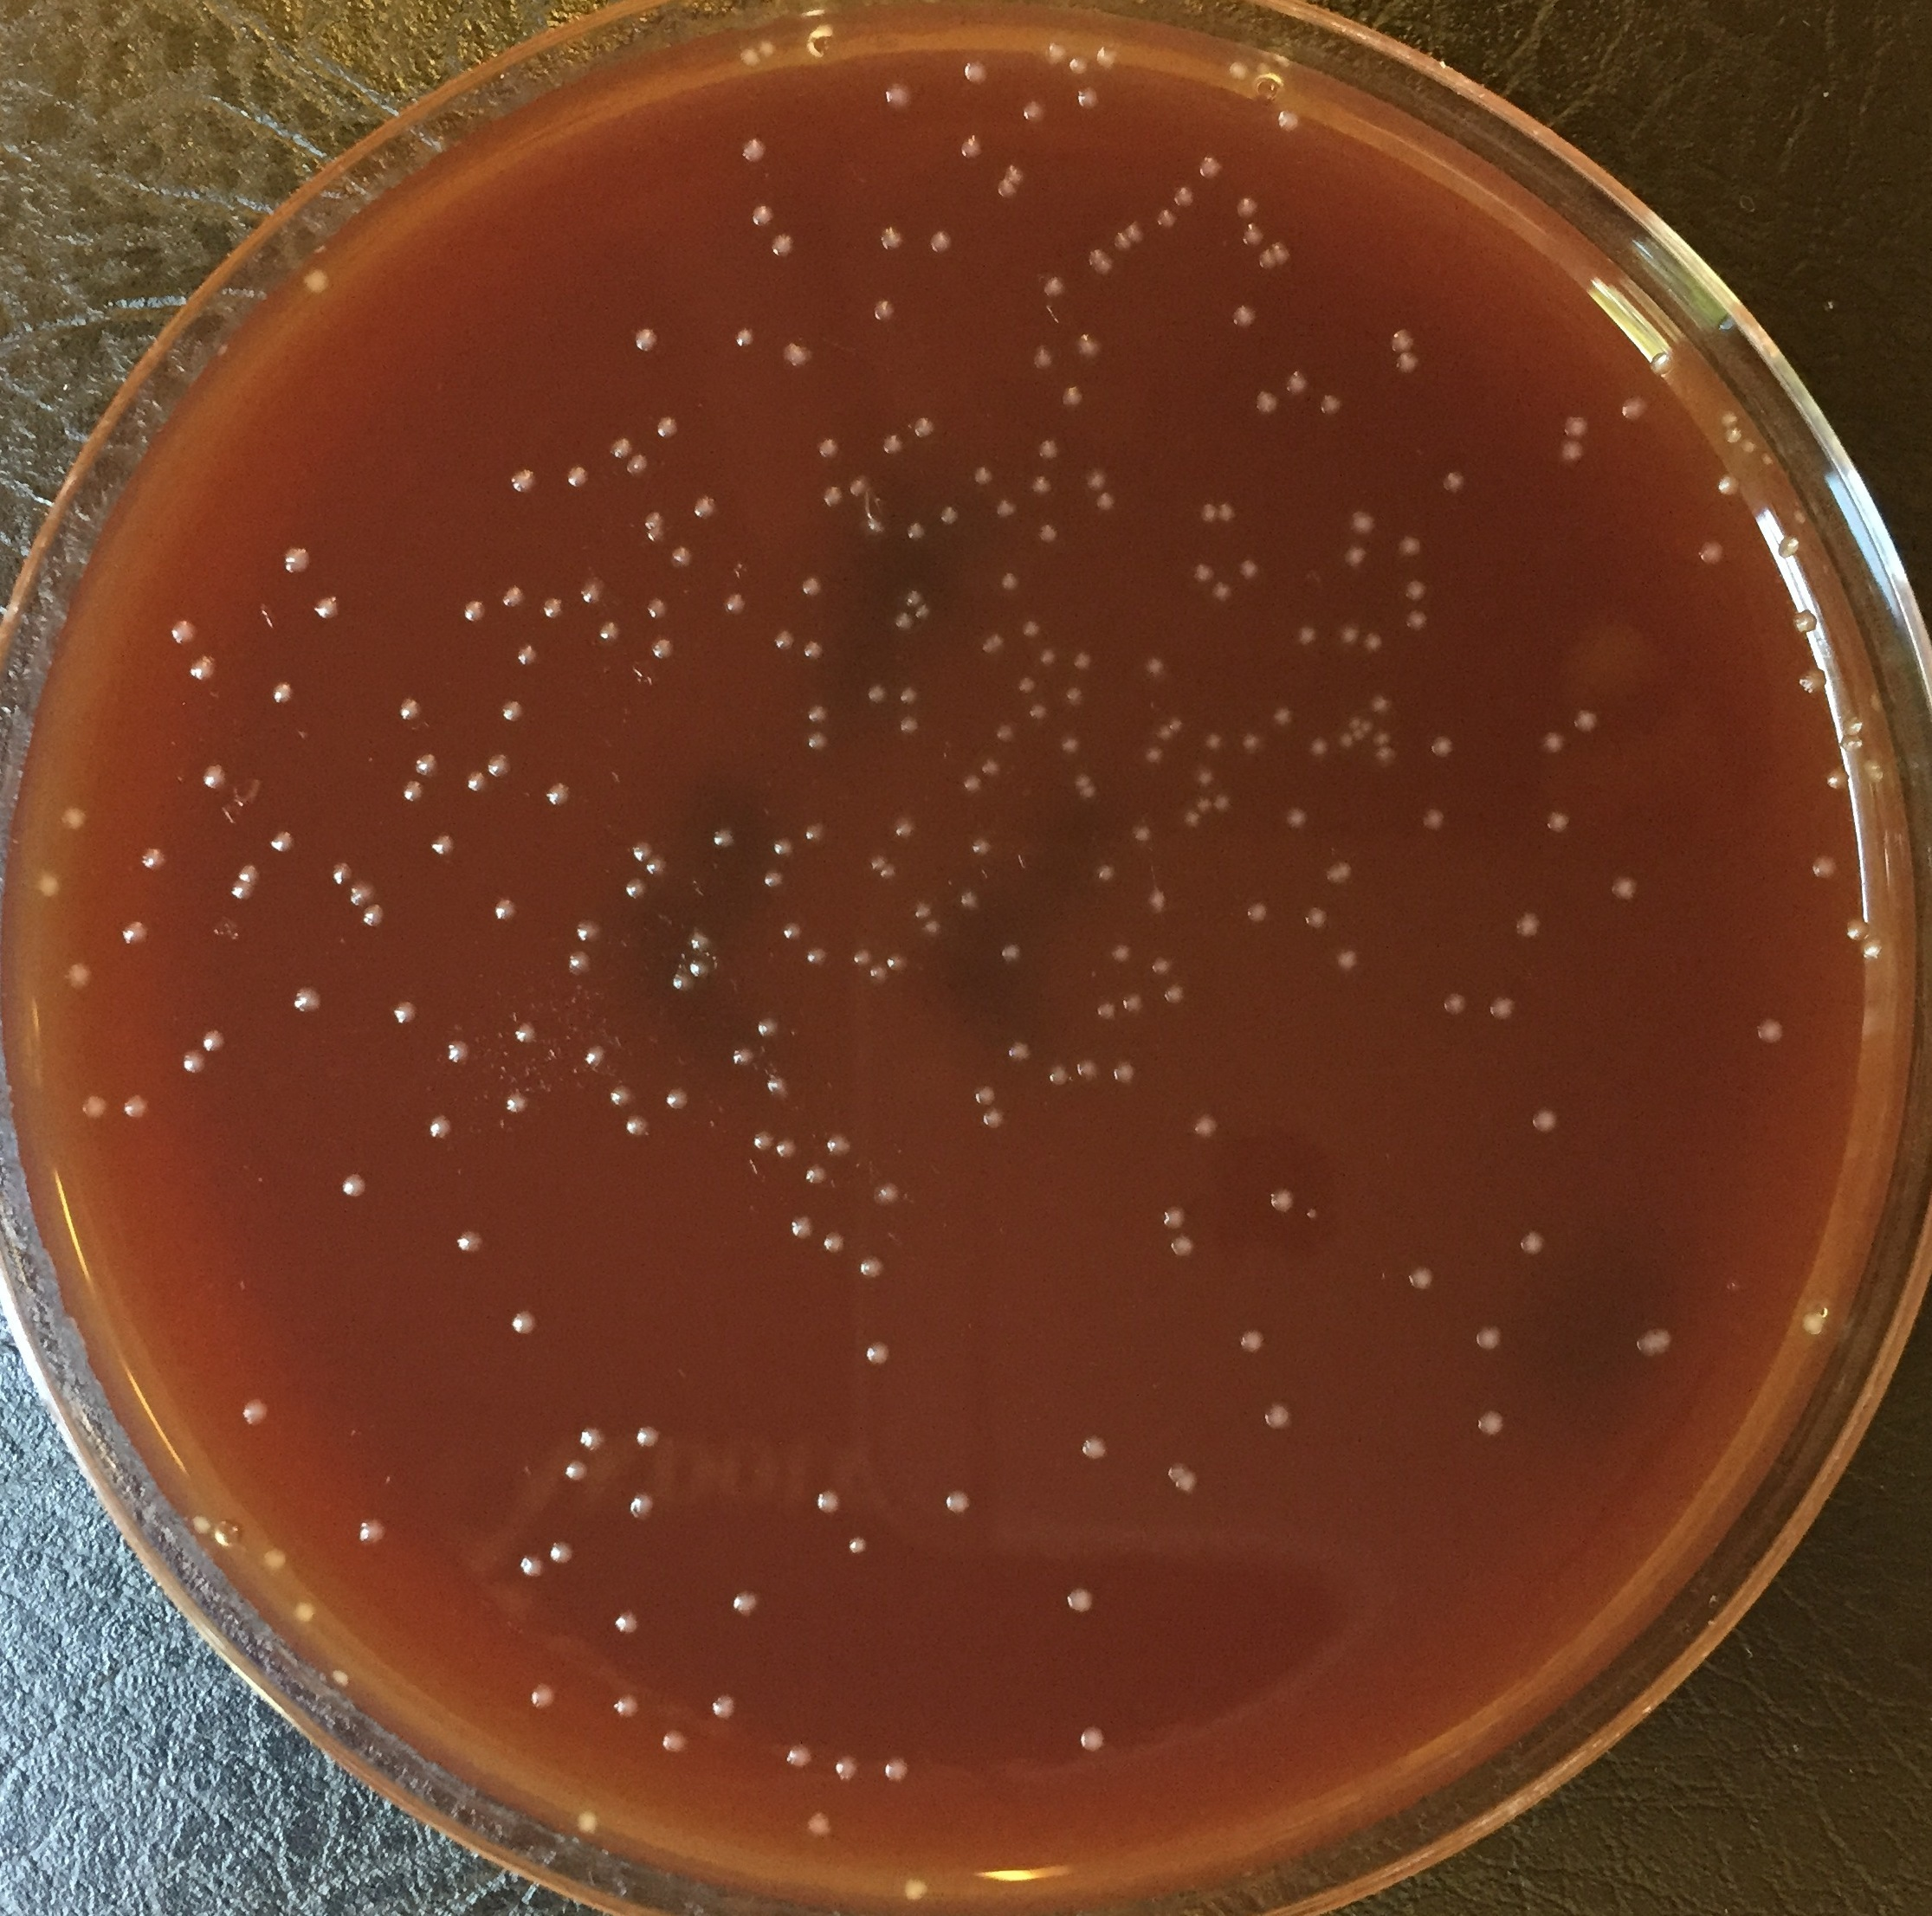sp23: (33, 867, 67, 911), (881, 79, 919, 116), (1634, 1325, 1672, 1360), (1614, 393, 1655, 425), (344, 876, 379, 911), (739, 132, 774, 167), (279, 542, 316, 576), (939, 1486, 979, 1516), (832, 1753, 867, 1786), (1470, 1321, 1506, 1355), (1790, 604, 1823, 639), (1693, 533, 1730, 565), (58, 804, 91, 837), (811, 1486, 846, 1518), (239, 1393, 270, 1428), (184, 653, 221, 683), (1755, 1014, 1786, 1047), (1609, 870, 1641, 904), (1799, 665, 1832, 697), (779, 339, 812, 370), (356, 1516, 388, 1549), (309, 593, 342, 625), (577, 572, 609, 605), (1283, 802, 1314, 835), (288, 984, 323, 1014), (1260, 1402, 1297, 1430), (612, 1690, 644, 1721), (874, 1179, 905, 1211), (1348, 505, 1379, 537), (258, 1542, 290, 1574), (514, 639, 546, 670), (730, 1586, 763, 1616), (574, 1807, 604, 1841), (879, 1755, 912, 1784), (1267, 1184, 1300, 1214), (1797, 1311, 1830, 1340), (1486, 991, 1520, 1021), (1253, 388, 1286, 418), (1190, 1109, 1220, 1142), (823, 1128, 856, 1158), (565, 949, 598, 979), (388, 995, 421, 1025), (644, 593, 677, 623), (1227, 302, 1262, 330), (805, 1809, 835, 1841), (1079, 1433, 1109, 1465), (788, 1211, 818, 1242), (1404, 1263, 1435, 1293), (61, 960, 91, 991), (337, 1170, 369, 1200), (509, 1304, 540, 1333), (198, 761, 230, 791), (628, 326, 660, 356), (1513, 912, 1546, 940), (1560, 412, 1593, 440), (1283, 368, 1311, 402), (960, 60, 993, 88), (1074, 330, 1102, 363), (574, 916, 607, 944), (293, 1595, 321, 1628), (653, 411, 681, 444), (1470, 1409, 1506, 1435), (625, 1491, 655, 1521), (709, 1691, 739, 1721), (856, 1253, 886, 1283), (1518, 1228, 1548, 1258), (1339, 540, 1369, 570), (1714, 470, 1744, 500), (816, 433, 846, 463), (512, 1019, 542, 1049), (498, 697, 528, 726), (632, 1423, 663, 1451), (784, 1739, 812, 1770), (1077, 1725, 1109, 1753), (1237, 1325, 1265, 1356), (393, 693, 425, 721), (690, 491, 721, 519), (765, 232, 798, 258), (167, 619, 200, 646), (1430, 730, 1455, 765), (526, 1683, 555, 1712), (902, 1874, 930, 1904), (1065, 1584, 1093, 1614), (1390, 325, 1418, 354), (1088, 247, 1116, 277), (1058, 381, 1086, 411), (1034, 435, 1063, 463), (663, 1083, 693, 1111), (411, 751, 440, 779), (428, 832, 458, 860), (119, 919, 149, 947), (179, 1047, 209, 1076), (190, 1512, 219, 1541), (507, 467, 537, 495), (607, 433, 635, 463), (1323, 856, 1353, 884), (1167, 1232, 1199, 1258), (623, 1111, 655, 1137), (540, 781, 572, 807), (268, 677, 295, 709), (539, 595, 570, 621), (547, 1539, 576, 1567), (1530, 1107, 1558, 1135), (1571, 707, 1599, 735), (1811, 853, 1839, 881), (490, 897, 518, 925), (712, 825, 741, 853), (425, 1111, 453, 1139), (563, 463, 591, 491), (300, 268, 328, 297), (612, 1607, 639, 1637), (865, 1339, 891, 1369), (1537, 728, 1567, 754), (1041, 40, 1070, 67), (927, 228, 956, 254), (1032, 344, 1058, 374), (958, 886, 988, 912), (755, 1014, 784, 1040), (969, 1083, 998, 1109), (605, 1083, 635, 1109), (121, 1093, 147, 1123), (669, 540, 695, 570), (1776, 532, 1800, 563), (1232, 195, 1263, 219), (81, 1093, 112, 1118), (518, 1553, 546, 1579), (662, 1727, 688, 1755), (1160, 1202, 1188, 1228), (1843, 916, 1871, 942), (1544, 807, 1572, 833), (1397, 532, 1425, 558), (1400, 577, 1428, 604), (1560, 437, 1586, 465), (1021, 98, 1049, 125), (960, 133, 986, 161), (1172, 184, 1199, 212), (1274, 109, 1302, 135), (581, 1042, 609, 1069), (763, 1072, 791, 1098), (486, 751, 512, 779), (644, 849, 670, 877), (139, 846, 167, 872), (456, 1226, 483, 1255), (595, 619, 623, 646), (1269, 704, 1297, 730), (1370, 742, 1399, 769), (1860, 933, 1885, 963), (1393, 353, 1423, 377), (670, 967, 700, 991), (1302, 904, 1332, 928), (560, 1460, 591, 1483), (1441, 991, 1467, 1018), (1442, 468, 1469, 495), (879, 225, 905, 251), (870, 298, 897, 325), (879, 432, 905, 458), (623, 877, 649, 904), (270, 826, 297, 853), (360, 900, 386, 926), (500, 584, 526, 611), (623, 451, 649, 477), (1172, 1467, 1197, 1495), (1155, 207, 1183, 232), (1041, 272, 1065, 300), (846, 472, 874, 497), (1084, 467, 1109, 495), (802, 702, 830, 726), (804, 944, 832, 969), (1072, 1056, 1100, 1081), (446, 1035, 470, 1063), (505, 1088, 530, 1116), (458, 598, 486, 623), (651, 635, 676, 663), (1244, 900, 1272, 925), (1269, 239, 1292, 268), (746, 204, 776, 226), (967, 835, 997, 858), (1367, 695, 1397, 718), (846, 1530, 870, 1556), (1823, 769, 1850, 793), (1209, 577, 1234, 604), (1402, 607, 1428, 632), (1241, 223, 1267, 247), (1318, 391, 1344, 416), (1093, 46, 1118, 72), (1074, 86, 1100, 111), (1000, 163, 1027, 188), (805, 728, 832, 753), (865, 679, 890, 705), (900, 714, 927, 739), (1132, 821, 1156, 847), (998, 940, 1025, 965), (1144, 886, 1169, 912), (1111, 1058, 1137, 1083), (993, 497, 1021, 519), (762, 867, 790, 890), (1148, 953, 1176, 976), (1160, 983, 1188, 1005), (1002, 1039, 1030, 1062), (1237, 732, 1265, 754), (1334, 947, 1362, 970), (1127, 218, 1148, 247), (821, 1230, 846, 1255), (997, 179, 1021, 204), (1097, 490, 1121, 514), (1014, 672, 1039, 697), (1093, 998, 1118, 1023), (1306, 733, 1330, 758), (1295, 623, 1321, 646), (1721, 421, 1748, 444), (911, 416, 934, 442), (1028, 474, 1051, 500), (723, 593, 749, 616), (979, 630, 1002, 656), (995, 723, 1021, 746), (1191, 765, 1214, 791), (1118, 991, 1144, 1014), (863, 962, 890, 984), (1048, 1063, 1074, 1086), (400, 779, 426, 802), (690, 926, 712, 953), (330, 858, 353, 884), (1421, 805, 1442, 833), (800, 640, 828, 661), (1090, 861, 1118, 883), (581, 1426, 604, 1451), (1191, 563, 1216, 586), (1237, 558, 1262, 581), (1362, 630, 1385, 654), (1790, 505, 1814, 528), (732, 325, 756, 347), (970, 463, 995, 486), (997, 570, 1021, 593), (893, 609, 918, 632), (1069, 649, 1093, 672), (893, 814, 916, 839), (802, 819, 826, 842), (1141, 744, 1165, 767), (1109, 940, 1134, 963), (886, 951, 911, 974), (981, 1107, 1005, 1130), (749, 1128, 772, 1153), (690, 958, 714, 981), (628, 840, 653, 863), (237, 860, 260, 884), (1067, 53, 1090, 75), (821, 484, 844, 507), (1039, 519, 1062, 542), (774, 628, 797, 651), (1016, 619, 1039, 642), (981, 756, 1004, 779), (851, 944, 874, 967), (640, 507, 663, 530), (1337, 623, 1358, 647), (1027, 700, 1051, 721), (230, 879, 254, 900), (202, 1028, 223, 1053), (739, 46, 763, 67), (1332, 730, 1356, 751), (800, 1165, 826, 1184), (1165, 1460, 1186, 1483), (1757, 449, 1779, 470), (1255, 249, 1276, 272), (1109, 230, 1130, 253), (1227, 60, 1249, 81), (902, 521, 925, 542), (937, 505, 960, 526), (902, 588, 925, 609), (1037, 646, 1060, 667), (897, 684, 919, 705), (772, 835, 795, 856), (1202, 730, 1223, 753), (1181, 809, 1202, 832), (1211, 793, 1234, 814), (1839, 716, 1864, 735), (777, 1135, 797, 1160), (1737, 435, 1758, 456), (912, 602, 934, 623), (1060, 735, 1081, 756), (962, 774, 983, 795), (758, 37, 779, 58), (1197, 500, 1216, 523), (1142, 656, 1165, 676), (1199, 156, 1218, 179), (730, 1047, 753, 1067), (467, 770, 486, 793), (1218, 502, 1237, 523), (1718, 407, 1739, 426), (800, 577, 821, 597), (1072, 770, 1093, 790), (1077, 783, 1098, 802), (781, 921, 802, 940), (1369, 725, 1388, 746), (867, 853, 890, 870), (649, 525, 667, 547), (1195, 797, 1214, 816), (912, 900, 932, 919), (877, 861, 898, 879), (1304, 1202, 1321, 1221), (1063, 684, 1083, 702), (1155, 723, 1172, 742), (1167, 716, 1184, 733), (1864, 758, 1883, 774), (1356, 716, 1372, 735), (927, 918, 942, 935), (1353, 726, 1367, 742), (1346, 714, 1360, 728)
